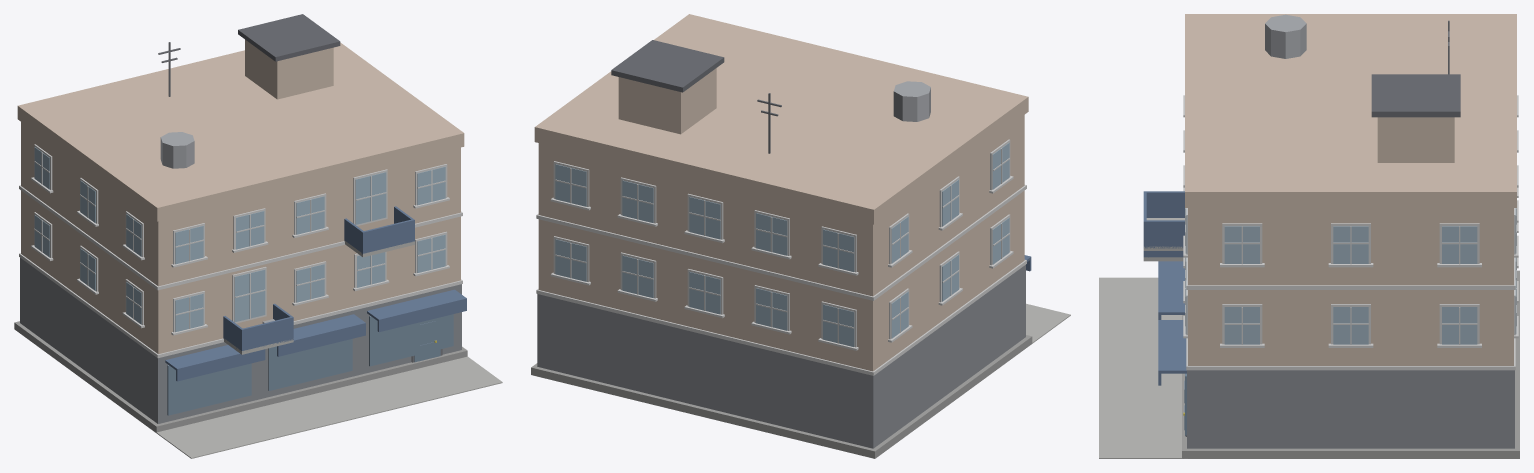
The model's file is Apartman_02.glb.
3 views of the same model, side by side, from view 1: azimuth 30°, elevation 25°; view 2: azimuth 150°, elevation 25°; view 3: azimuth 270°, elevation 25° (orthographic). The views are drawn at different scales.
Visible parts, largest first — view 1: Apartman_02; view 2: Apartman_02; view 3: Apartman_02.
Boxes of the visible parts, left/top/right/bottom form: Apartman_02: left=14, top=14, right=502, bottom=458; Apartman_02: left=531, top=14, right=1070, bottom=458; Apartman_02: left=1099, top=14, right=1519, bottom=458.
Bounding box in the file's own units: 14.4 × 12.3 × 14.2.
